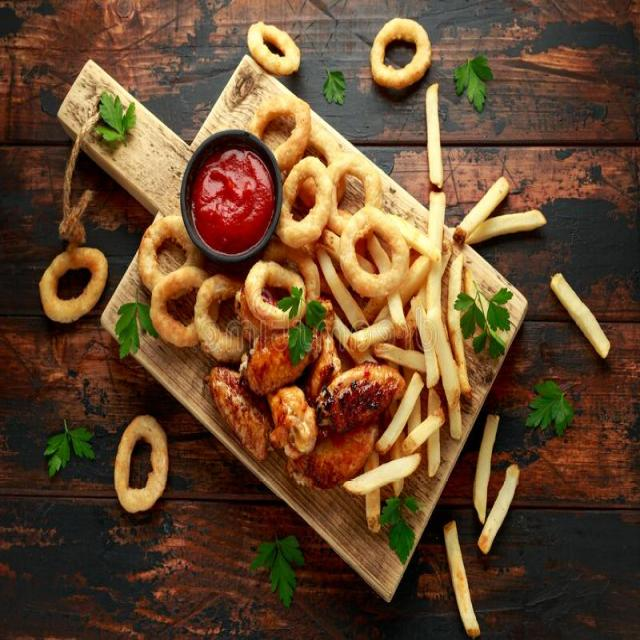Chicken Wings: (198, 318, 408, 480)
French Fries: (318, 68, 622, 631)
Onion Rings: (32, 12, 428, 522)
